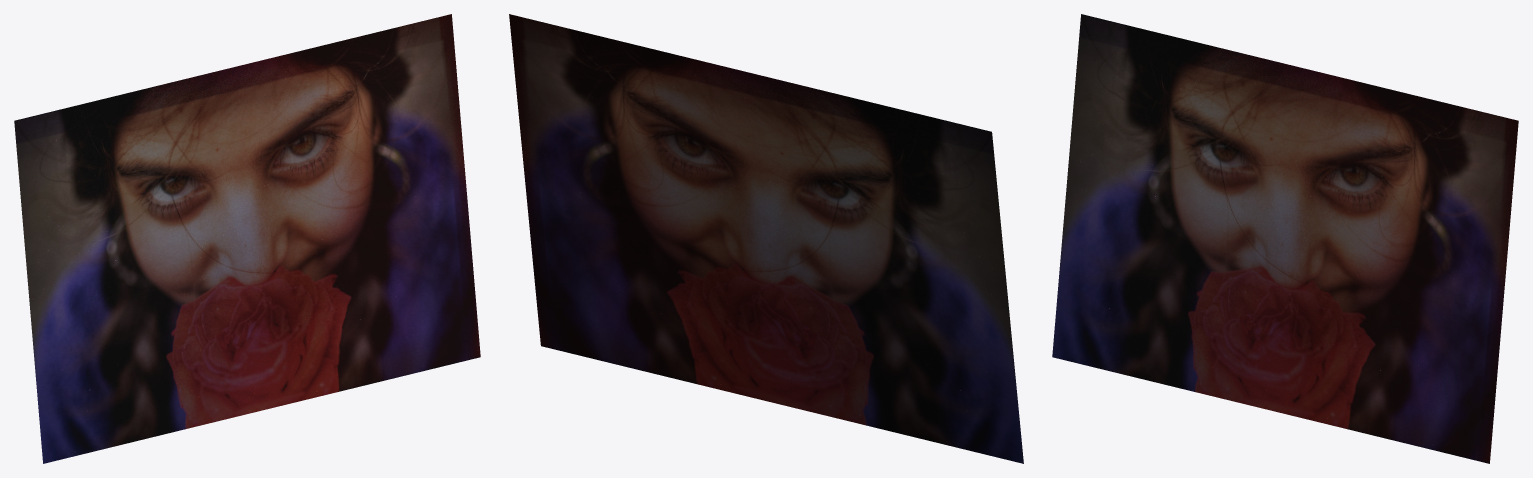
File: rose_rouge.glb
The picture shows the model from 3 angles, left to right: view 1: azimuth 30°, elevation 25°; view 2: azimuth 150°, elevation 25°; view 3: azimuth 330°, elevation 25°; orthographic projection. The views are drawn at different scales.
Parts seen in each view (by area): view 1: rose_rouge; view 2: rose_rouge; view 3: rose_rouge.
Boxes of the visible parts, bbox=[...] form: rose_rouge: bbox=[14, 14, 480, 463]; rose_rouge: bbox=[509, 14, 1023, 463]; rose_rouge: bbox=[1052, 14, 1518, 463].
Bounding box in the file's own units: 7.2 × 5.06 × 0.8233.
1 material, 1 textured.
